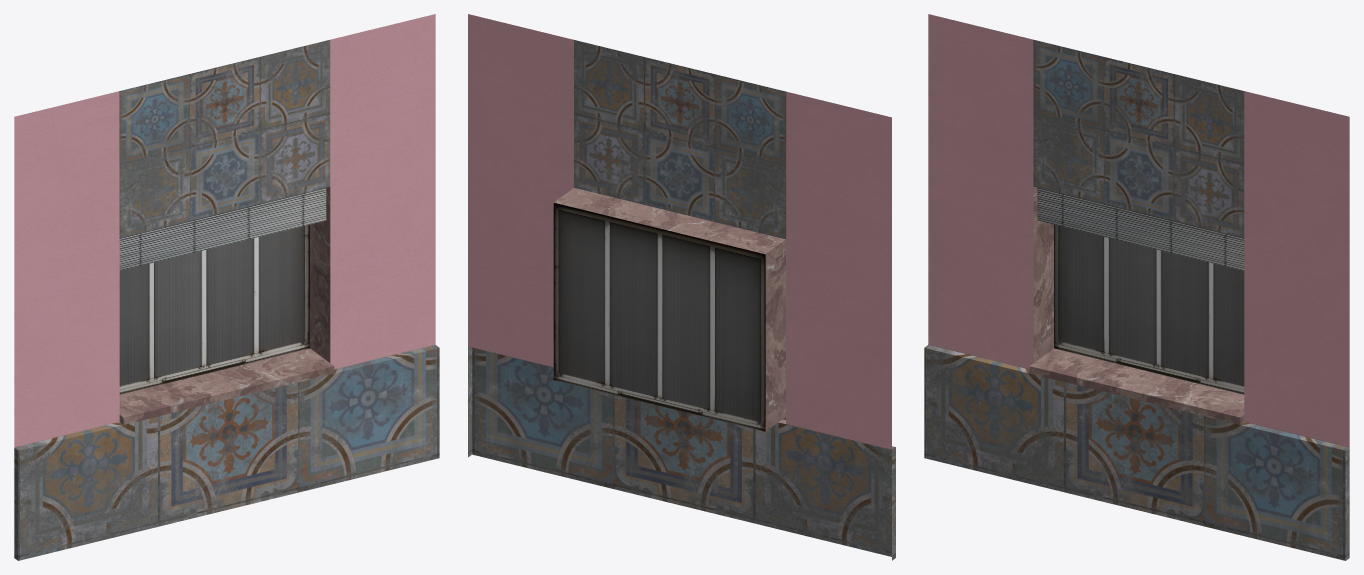
Rendered from Building A Window A1.fbx.
3 renders of one model, left to right at view 1: azimuth 30°, elevation 25°; view 2: azimuth 150°, elevation 25°; view 3: azimuth 330°, elevation 25°, orthographic.
Visible parts, largest first — view 1: Building A Window A1 (2, Baked); view 2: Building A Window A1 (2, Baked); view 3: Building A Window A1 (2, Baked).
Boxes of the visible parts, <box> form: Building A Window A1 (2, Baked): <box>14,14,439,560</box>; Building A Window A1 (2, Baked): <box>468,14,895,560</box>; Building A Window A1 (2, Baked): <box>924,14,1349,560</box>.
Bounding box in the file's own units: 300 × 300 × 30.
